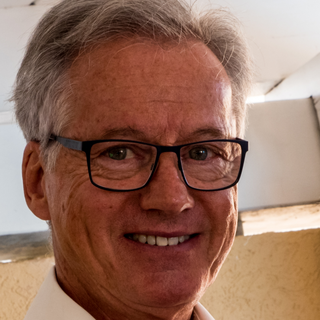eye: (94, 141, 147, 168), (179, 141, 226, 166)
